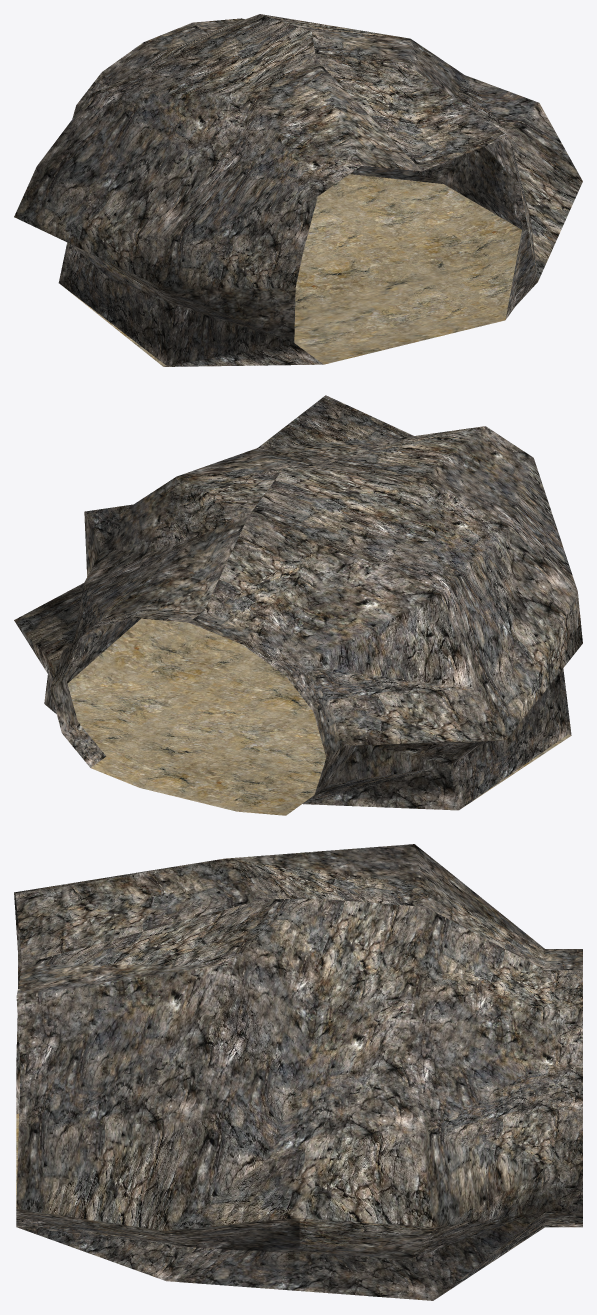
File: pir_m_are_cav_deadend100_entrance.fbx
3 views of the same model, one above another, from view 1: azimuth 30°, elevation 25°; view 2: azimuth 150°, elevation 25°; view 3: azimuth 270°, elevation 25° (orthographic). The views are drawn at different scales.
Parts seen in each view (by area): view 1: standardDeadEnd_wall, standardDeadEnd_floor; view 2: standardDeadEnd_wall, standardDeadEnd_floor; view 3: standardDeadEnd_wall.
Boxes of the visible parts, x1,y1,x2,y2 form: standardDeadEnd_wall: (14, 14, 582, 366); standardDeadEnd_floor: (63, 174, 521, 366); standardDeadEnd_wall: (14, 395, 582, 810); standardDeadEnd_floor: (67, 618, 570, 815); standardDeadEnd_wall: (14, 844, 582, 1300).
Bounding box in the file's own units: 9025 × 4495 × 7532.
2 materials, 2 textured.
